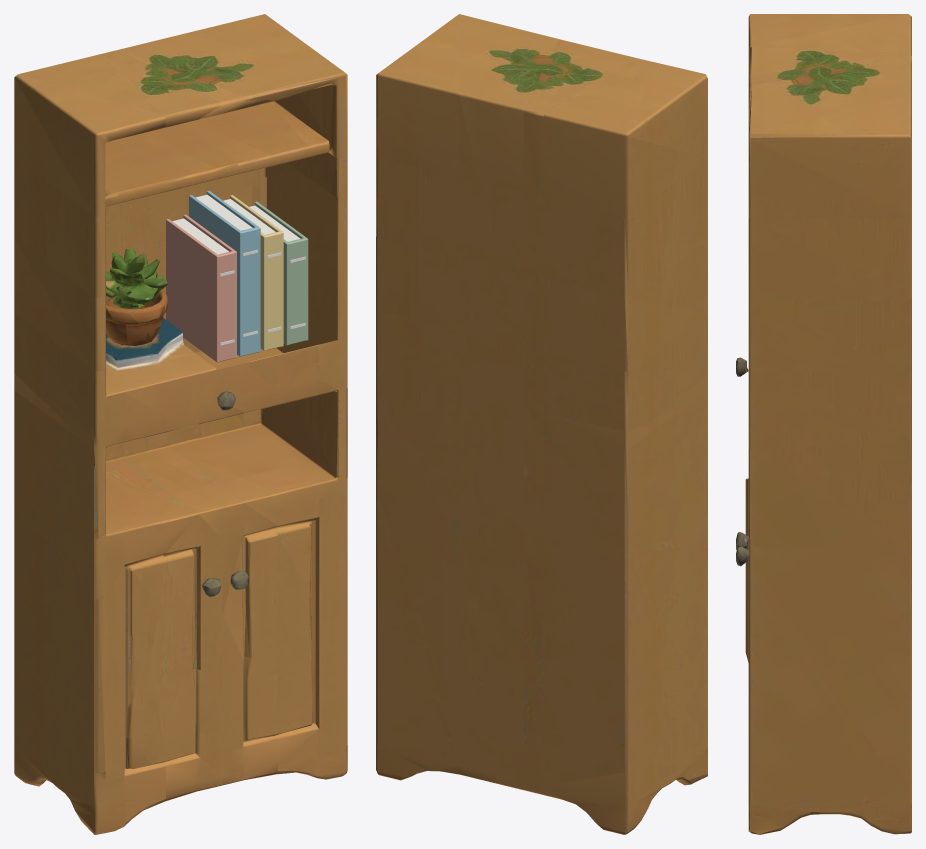
File: estante.glb
The picture shows the model from 3 angles, left to right: view 1: azimuth 30°, elevation 25°; view 2: azimuth 150°, elevation 25°; view 3: azimuth 270°, elevation 25°; orthographic projection.
Bounding box in the file's own units: 0.7202 × 1.91 × 0.4344.
2 materials, 1 textured.
